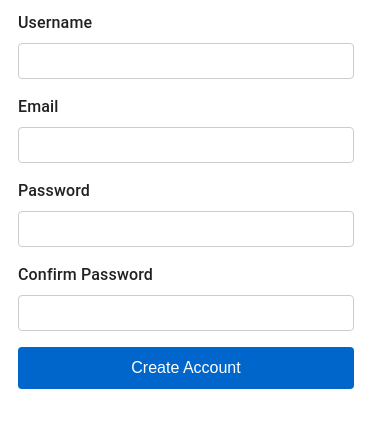
RegisterForm › validates password confirmation match
Type "testuser" into the field labelled "Username". click: [186, 61]
box: [18,43,354,79]
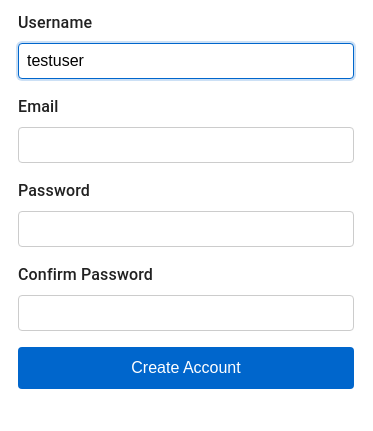
Type "test@example.com" into the field labelled "Email". click: [186, 145]
box: [18,127,354,163]
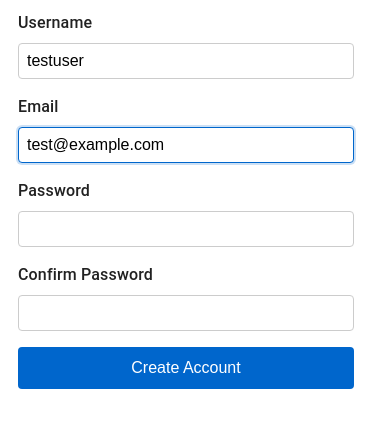
Type "password123" into the password field labelled "Password". click: [186, 229]
box: [18,211,354,247]
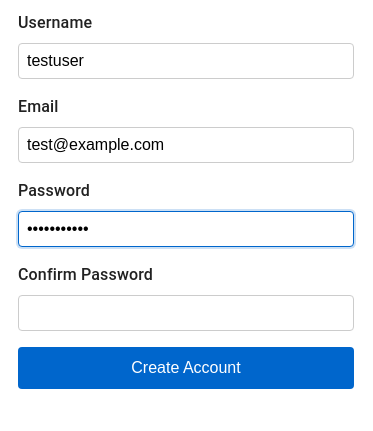
Type "password456" into the password field labelled "Confirm Password". click: [186, 313]
box: [18,295,354,331]
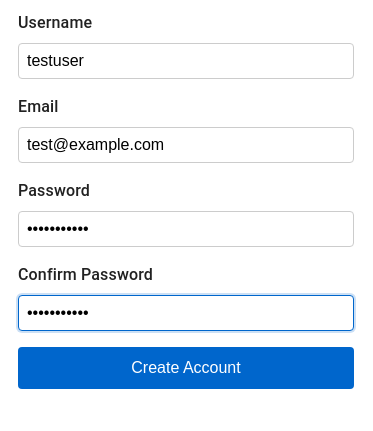
Click the button "Create Account". click: [186, 368]
box: [18,347,354,389]
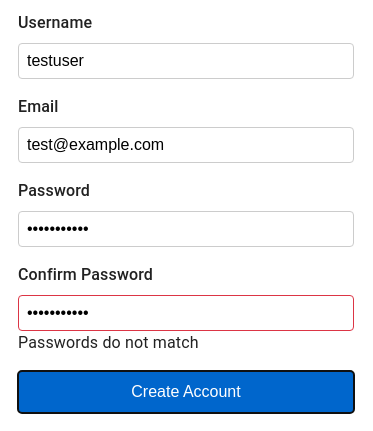
Now the text "Passwords do not match" is shown, box [18,333,199,352]
